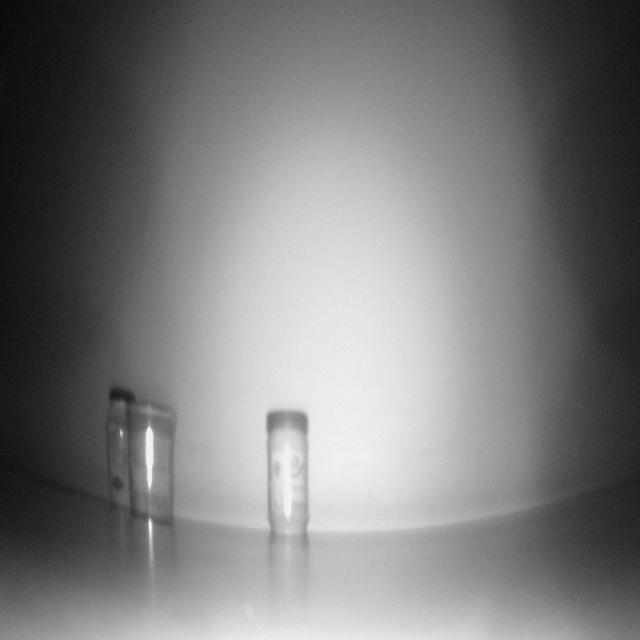targets: (108, 388, 174, 516), (267, 412, 308, 533)
